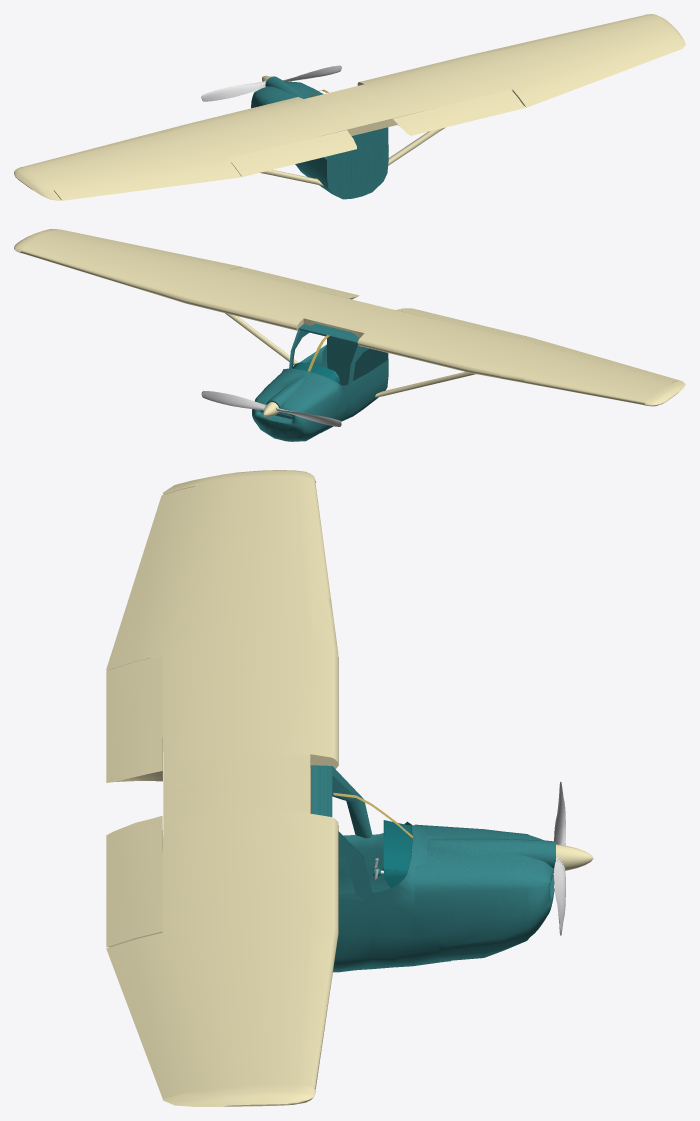
The picture shows the model from 3 angles, top to bottom: view 1: azimuth 30°, elevation 25°; view 2: azimuth 150°, elevation 25°; view 3: azimuth 270°, elevation 25°; orthographic projection. The views are drawn at different scales.
Parts seen in each view (by area): view 1: Base_2, Aile_Pivot, Avion_Arriere, Aile_Pivot_R, Aile_Pivot_D, Avion_Avant, Helices_2, Barre_G, Barre_D; view 2: Base_2, Avion_Arriere, Avion_Avant, Aile_Pivot, Helices_2, Aile_Pivot_R, Aile_Pivot_D, Barre_D, Barre_G, Base_commande; view 3: Base_2, Avion_Avant, Aile_Pivot, Avion_Arriere, Aile_Pivot_D, Aile_Pivot_R, Base_commande, Helices_2.
Part boxes in pixels (x1=…): Base_2: x1=14, y1=14, x2=685, y2=200; Aile_Pivot: x1=230, y1=90, x2=524, y2=176; Avion_Arriere: x1=295, y1=97, x2=388, y2=199; Aile_Pivot_R: x1=54, y1=162, x2=241, y2=200; Aile_Pivot_D: x1=517, y1=39, x2=680, y2=106; Avion_Avant: x1=251, y1=76, x2=323, y2=108; Helices_2: x1=201, y1=65, x2=341, y2=101; Barre_G: x1=388, y1=127, x2=445, y2=165; Barre_D: x1=260, y1=170, x2=323, y2=186; Base_2: x1=14, y1=229, x2=685, y2=406; Avion_Arriere: x1=282, y1=323, x2=388, y2=432; Avion_Avant: x1=252, y1=371, x2=338, y2=441; Aile_Pivot: x1=231, y1=267, x2=525, y2=338; Helices_2: x1=201, y1=391, x2=341, y2=426; Aile_Pivot_R: x1=518, y1=336, x2=679, y2=382; Aile_Pivot_D: x1=54, y1=229, x2=241, y2=268; Barre_D: x1=375, y1=372, x2=475, y2=397; Barre_G: x1=225, y1=313, x2=298, y2=365; Base_commande: x1=292, y1=362, x2=339, y2=383; Base_2: x1=106, y1=470, x2=338, y2=1106; Avion_Avant: x1=414, y1=824, x2=555, y2=961; Aile_Pivot: x1=106, y1=656, x2=162, y2=947; Avion_Arriere: x1=310, y1=765, x2=450, y2=972; Aile_Pivot_D: x1=107, y1=937, x2=194, y2=1098; Aile_Pivot_R: x1=106, y1=486, x2=194, y2=670; Base_commande: x1=383, y1=820, x2=411, y2=888; Helices_2: x1=554, y1=782, x2=565, y2=935.
Bounding box in the file's own units: 29654 × 3966 × 9644.
35 materials, 26 textured.
